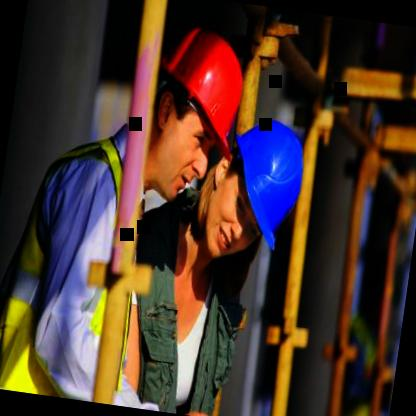helmet: (116, 5, 269, 226), (202, 86, 321, 278)
